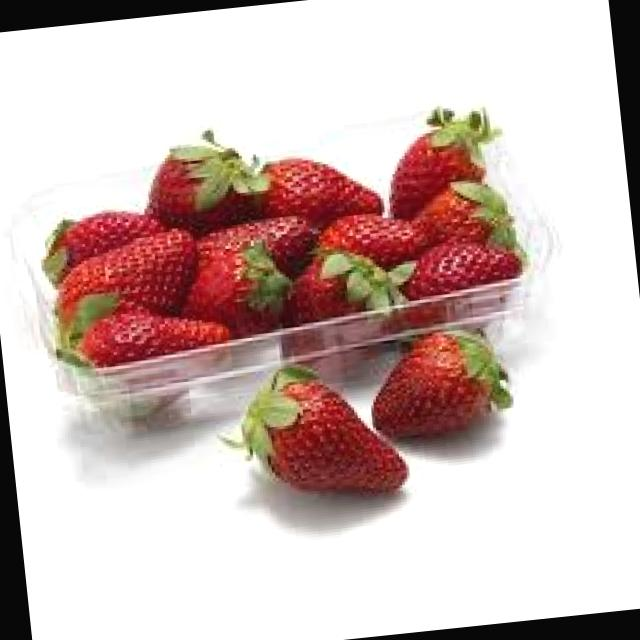strawberry: (224, 339, 422, 535), (363, 320, 510, 444), (140, 126, 274, 238)
